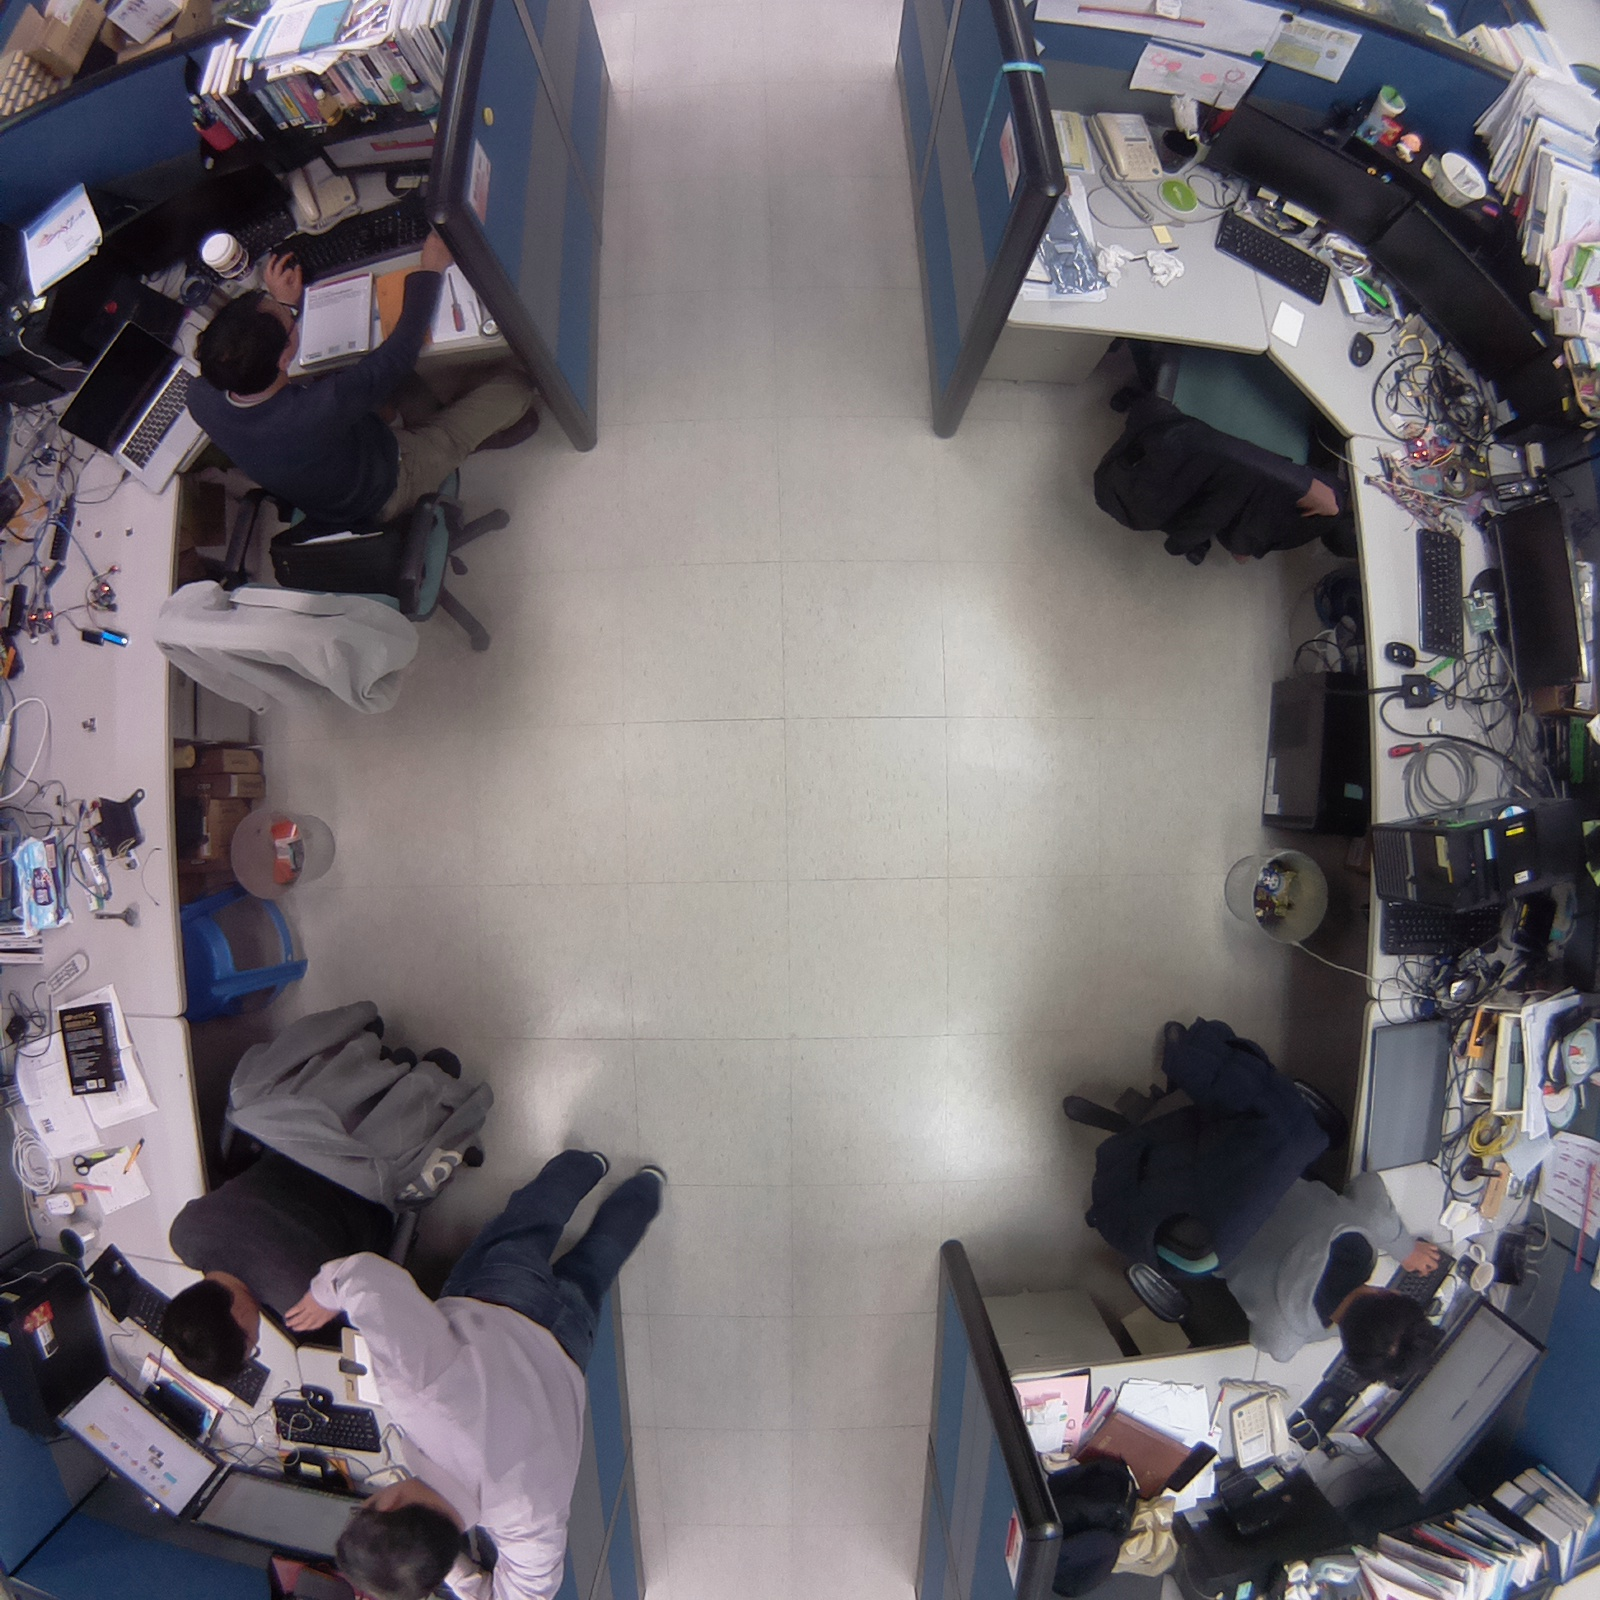chair: (1083, 322, 1360, 583)
head: (322, 1478, 472, 1600), (1326, 1278, 1445, 1399), (155, 1272, 266, 1388), (189, 295, 310, 386)
sitting: (137, 266, 563, 737), (1032, 1001, 1457, 1404), (153, 973, 499, 1392)
standing: (299, 1132, 686, 1600)
